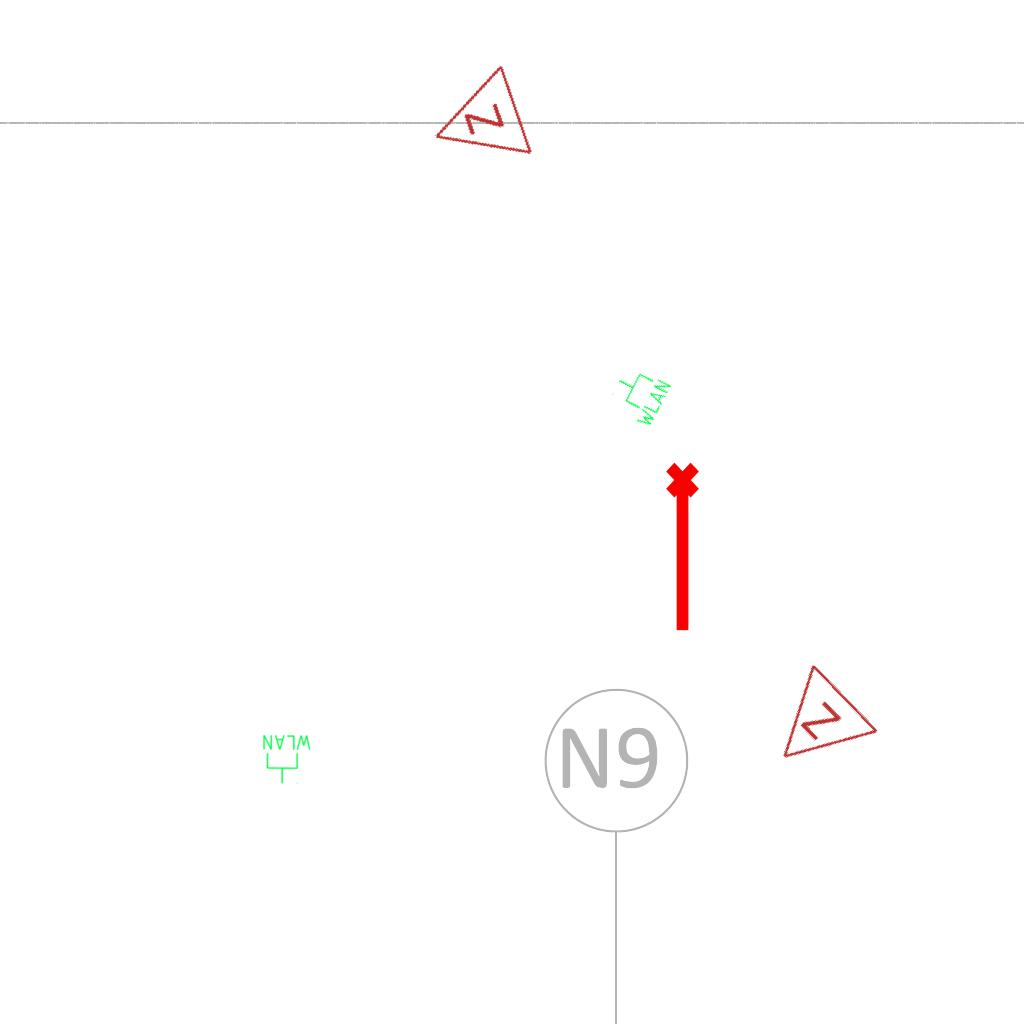ASR_Ansaugoeffnung: (662, 460, 708, 636)
WLAN: (604, 361, 674, 431), (261, 733, 313, 785)
Zimmersignalleuchte: (745, 658, 887, 798), (413, 61, 541, 187)
